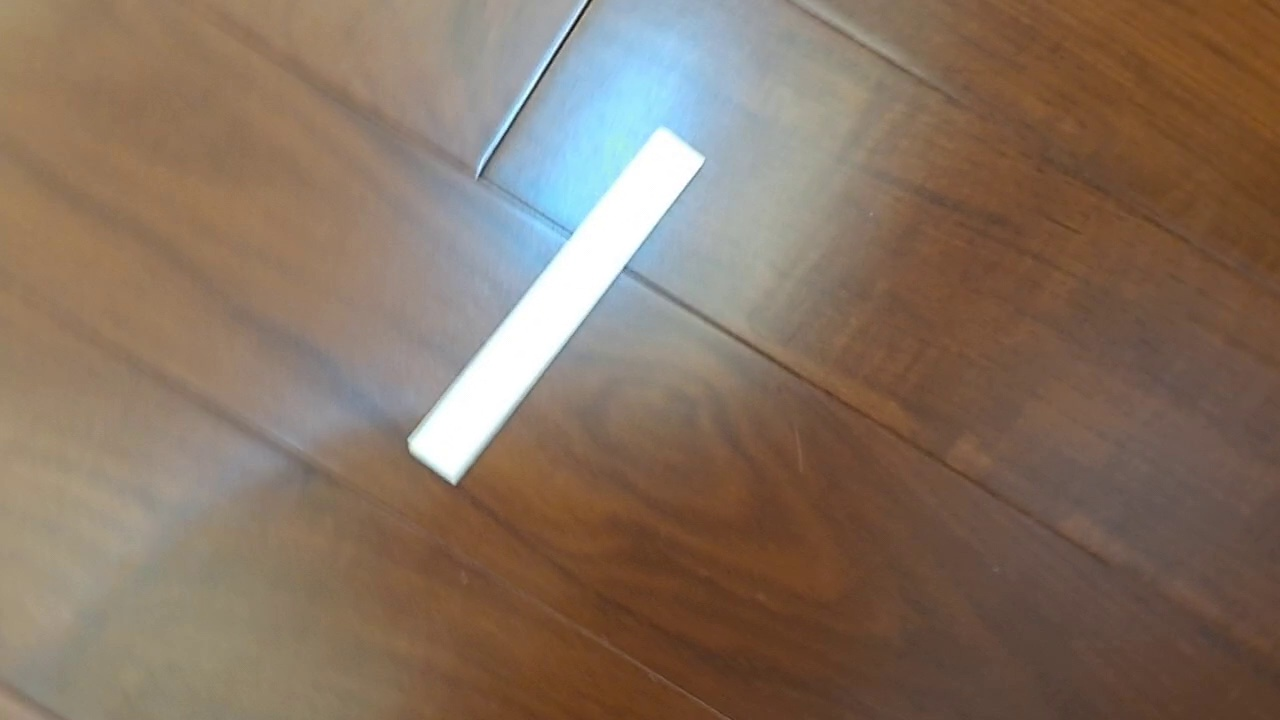ruler: (406, 123, 708, 490)
